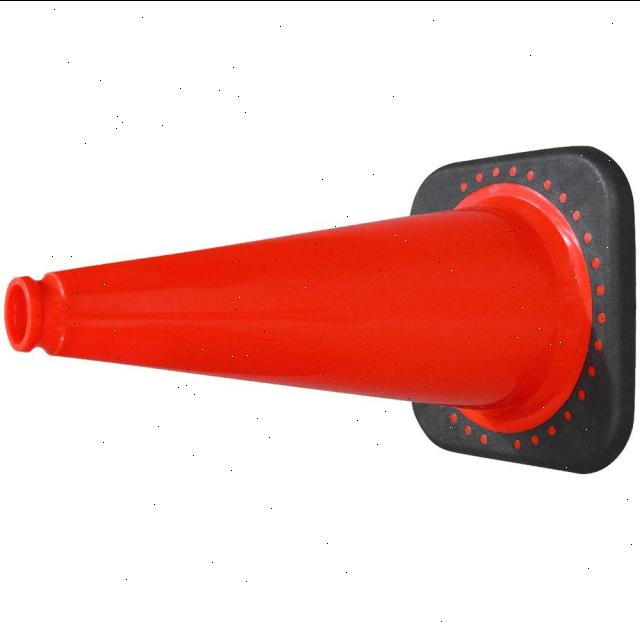traffic cone: (2, 137, 640, 487)
